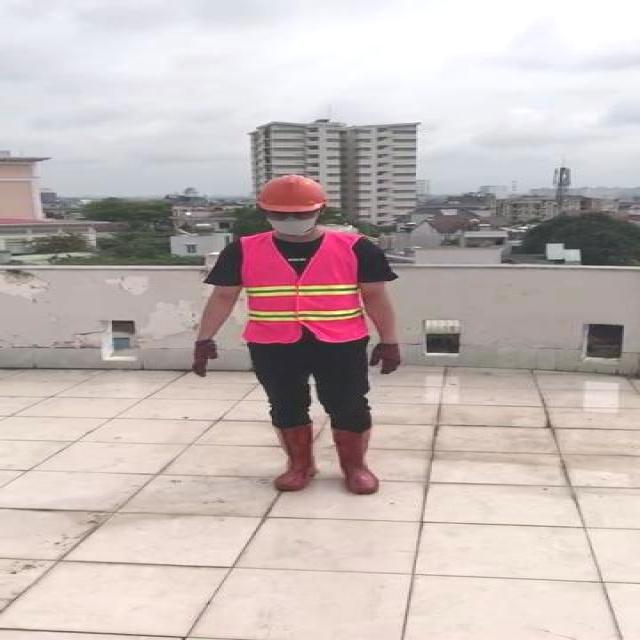boots: (332, 427, 382, 495), (270, 421, 316, 492)
face_mask: (262, 207, 318, 236)
glasses: (263, 207, 320, 224)
hand_glove: (372, 341, 404, 376), (190, 339, 219, 377)
head_helmet: (254, 174, 332, 214)
person: (182, 171, 420, 499)
vest: (245, 232, 368, 343)
